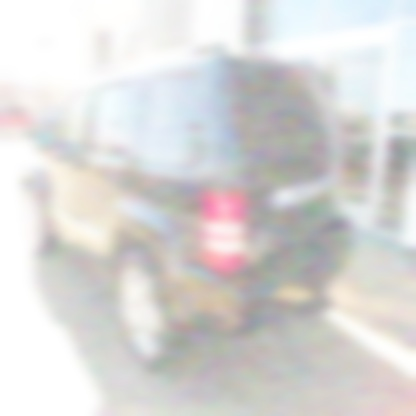Vehicle: (22, 41, 356, 377)
